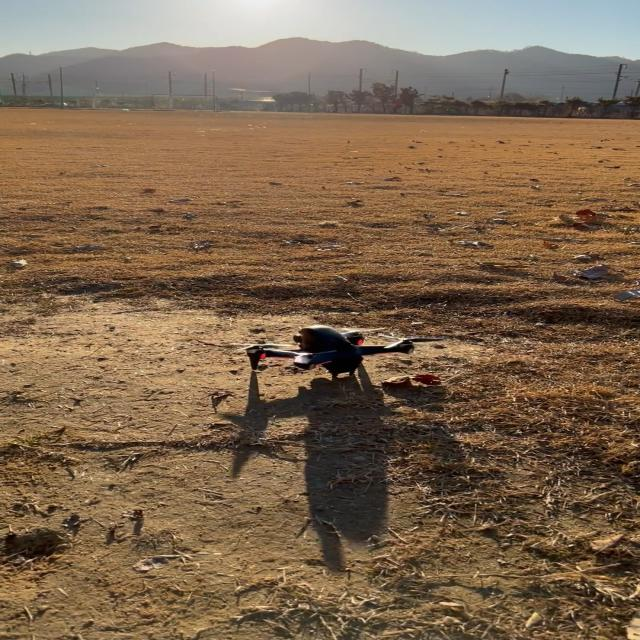drone: (238, 324, 444, 379)
